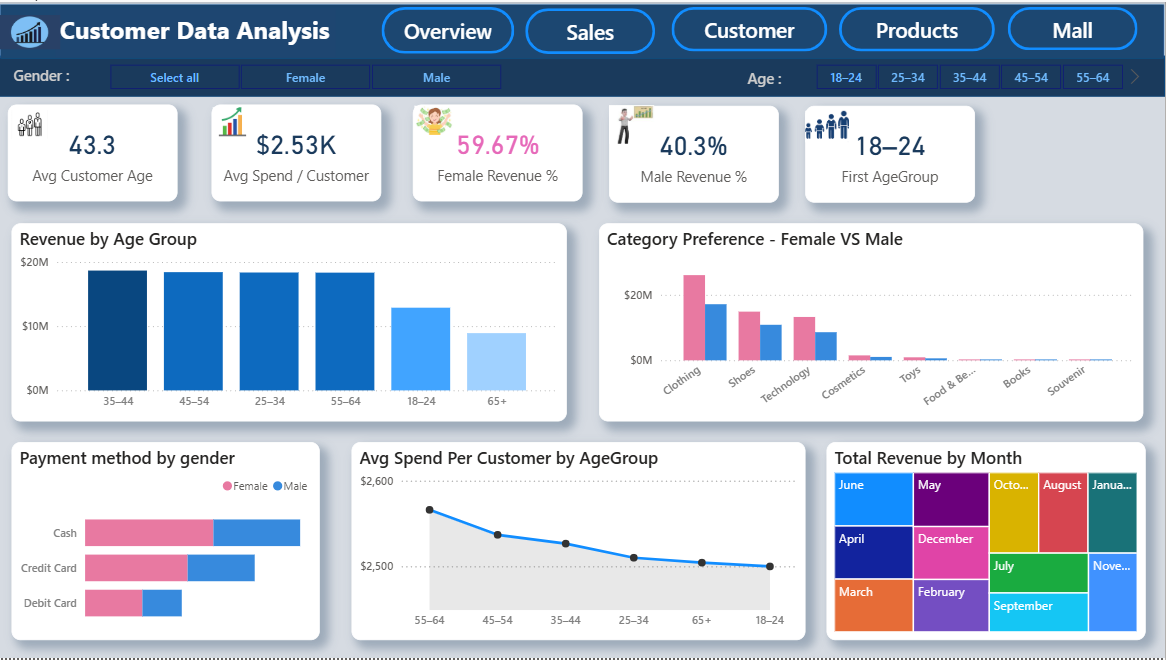

What the dashboard file says about the page in this screenshot:
{"tool":"powerbi","page":{"name":"Customer","canvas":[1280,720],"ordinal":2},"visuals":[{"type":"shape","box":[0,58.8,1280,45],"z":0},{"type":"shape","box":[0,1.3,1280.3,61.8],"z":1000},{"type":"slicer","fields":{"Values":["customer_data_analysis.gender"]},"box":[96.6,61.8,479.1,39.9],"z":2000},{"type":"slicer","fields":{"Values":["customer_data_analysis.AgeGroup"]},"box":[872,61.8,386.4,38.6],"z":3000},{"type":"textbox","box":[10.3,64.4,86.3,36.1],"z":4000},{"type":"textbox","box":[812.7,67,86.3,36.1],"z":5000},{"type":"card","fields":{"Values":["customer_data_analysis.Avg Customer Age"]},"box":[10,112.5,186.2,106.2],"z":6000},{"type":"card","fields":{"Values":["customer_data_analysis.Avg Spend Per Customer"]},"box":[233.8,112.5,186.2,106.2],"z":7000},{"type":"card","fields":{"Values":["customer_data_analysis.Female Revenue %"]},"box":[453.8,112.5,186.2,106.2],"z":8000},{"type":"card","fields":{"Values":["Min(customer_data_analysis.AgeGroup)"]},"box":[885,113.8,186.2,106.2],"z":9000},{"type":"card","fields":{"Values":["customer_data_analysis.Male Revenue %"]},"box":[670,113.8,186.2,106.2],"z":10000},{"type":"columnChart","title":"Revenue by Age Group","fields":{"Y":["customer_data_analysis.Total Revenue"],"Category":["customer_data_analysis.AgeGroup"]},"box":[14.2,243.4,609.2,217.7],"z":11000},{"type":"clusteredColumnChart","title":"Category Preference - Female VS Male","fields":{"Category":["customer_data_analysis.category"],"Y":["customer_data_analysis.Total Revenue"],"Series":["customer_data_analysis.gender"]},"box":[658.2,243.4,597.6,217.7],"z":12000},{"type":"lineChart","fields":{"Category":["customer_data_analysis.AgeGroup"],"Y":["customer_data_analysis.Avg Spend Per Customer"]},"box":[386.4,483,498.5,217.7],"z":13000},{"type":"barChart","title":"Payment method by gender","fields":{"Category":["customer_data_analysis.payment_method"],"Y":["customer_data_analysis.Total Orders"],"Series":["customer_data_analysis.gender"]},"box":[14.2,483,338.7,217.7],"z":14000},{"type":"treemap","fields":{"Group":["customer_data_analysis.invoice_date.Variation.Date Hierarchy.Month"],"Values":["customer_data_analysis.Total Revenue"]},"box":[908,483,350.3,217.7],"z":15000},{"type":"image","box":[13.6,113.9,39.6,40.9],"z":16000},{"type":"image","box":[234,109,43.3,45.8],"z":17000},{"type":"image","box":[453.2,113.9,50.8,32.2],"z":18000},{"type":"image","box":[669.8,109,49.5,52],"z":19000},{"type":"image","box":[885.3,113.9,48.3,45.8],"z":20000},{"type":"textbox","box":[62.2,6.3,308.3,54.6],"z":21000},{"type":"image","box":[0,4.9,67.3,55],"z":22000},{"type":"actionButton","title":"Overview","box":[419.4,5.6,145.8,51.4],"z":23000},{"type":"actionButton","title":"Sales","box":[578.4,6.8,142.6,50.2],"z":24000},{"type":"actionButton","title":"Customer","box":[738.6,5.4,171.1,48.9],"z":25000},{"type":"actionButton","title":"Customer","box":[921.9,5.4,171.1,48.9],"z":26000},{"type":"actionButton","box":[1107.9,5.4,142.6,47.5],"z":27000}]}

Visuals, with their boxes in screenshot pixels (x1, y1, x2, y2), scaled from the page's 1280x720 canvas onto the 1166x660 screenshot:
shape: 0, 54, 1165, 95
shape: 0, 1, 1165, 58
slicer - customer_data_analysis.gender: 88, 57, 524, 93
slicer - customer_data_analysis.AgeGroup: 794, 57, 1146, 92
textbox: 9, 59, 88, 92
textbox: 740, 61, 819, 95
card - customer_data_analysis.Avg Customer Age: 9, 103, 179, 200
card - customer_data_analysis.Avg Spend Per Customer: 213, 103, 383, 200
card - customer_data_analysis.Female Revenue %: 413, 103, 583, 200
card - Min(customer_data_analysis.AgeGroup): 806, 104, 976, 202
card - customer_data_analysis.Male Revenue %: 610, 104, 780, 202
"Revenue by Age Group" columnChart: 13, 223, 568, 423
"Category Preference - Female VS Male" clusteredColumnChart: 600, 223, 1144, 423
lineChart - customer_data_analysis.AgeGroup x customer_data_analysis.Avg Spend Per Customer: 352, 443, 806, 642
"Payment method by gender" barChart: 13, 443, 321, 642
treemap - customer_data_analysis.invoice_date.Variation.Date Hierarchy.Month x customer_data_analysis.Total Revenue: 827, 443, 1146, 642
image: 12, 104, 48, 142
image: 213, 100, 253, 142
image: 413, 104, 459, 134
image: 610, 100, 655, 148
image: 806, 104, 850, 146
textbox: 57, 6, 338, 56
image: 0, 4, 61, 55
"Overview" actionButton: 382, 5, 515, 52
"Sales" actionButton: 527, 6, 657, 52
"Customer" actionButton: 673, 5, 829, 50
"Customer" actionButton: 840, 5, 996, 50
actionButton: 1009, 5, 1139, 48
